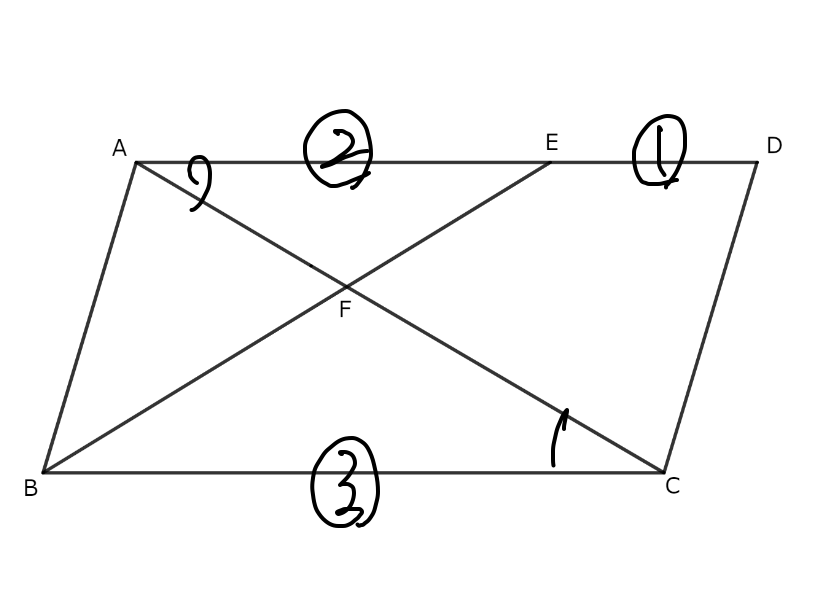Angle_Scurve: (178, 151, 217, 215), (544, 408, 575, 478)
